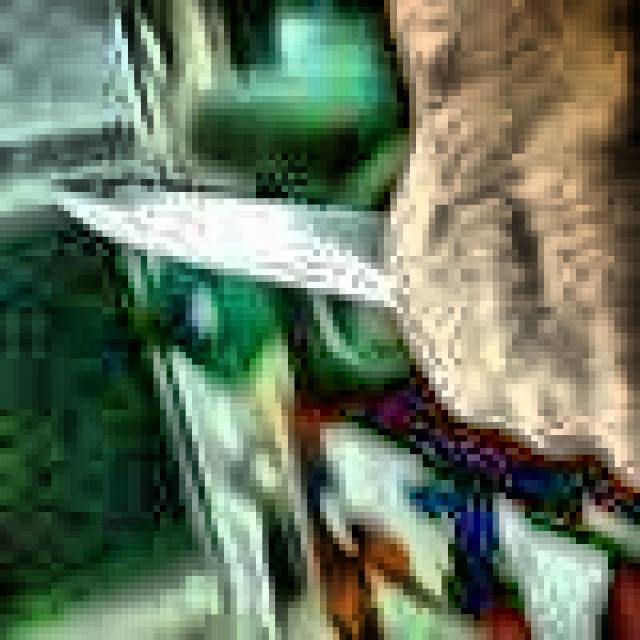knife: (51, 189, 391, 310)
